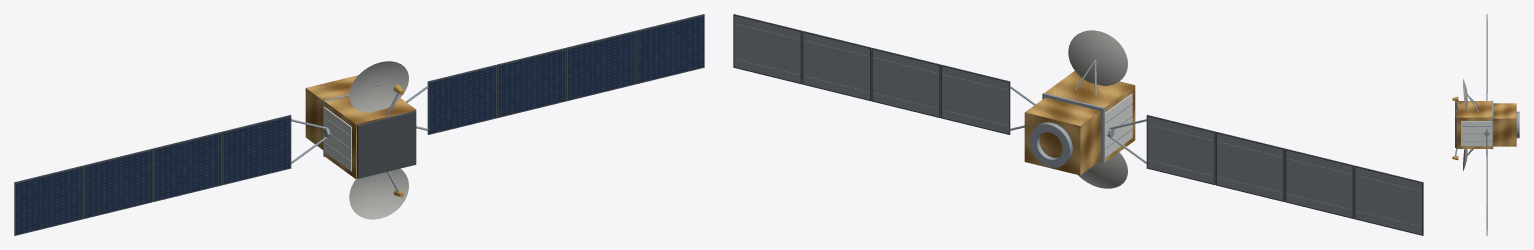
Rendered from ref-spacebus-3000-23948.glb.
3 views of the same model, side by side, from view 1: azimuth 30°, elevation 25°; view 2: azimuth 150°, elevation 25°; view 3: azimuth 270°, elevation 25° (orthographic). The views are drawn at different scales.
Visible parts, largest first — view 1: Solar cell panel (×8), Communications reflector (×2), Solar panel frame (×8), Earth-facing deck, Payload module, Service module, Radiator face; view 2: Rear array substrate (×8), Solar panel frame (×8), Service module, Communications reflector (×2), Payload module, Radiator face, Launch adapter ring, Module interface; view 3: Service module, Payload module, Radiator face, Communications reflector (×2), Module interface, Launch adapter ring, Solar panel frame, Earth-facing deck, Radiator seam.
Boxes of the visible parts, x1,y1,x2,y2 form: Solar cell panel (×8): (16, 16, 703, 234); Communications reflector (×2): (349, 61, 408, 219); Solar panel frame (×8): (14, 14, 704, 235); Earth-facing deck: (357, 111, 416, 178); Payload module: (325, 96, 416, 178); Service module: (305, 75, 358, 149); Radiator face: (323, 107, 351, 171); Rear array substrate (×8): (734, 16, 1421, 234); Solar panel frame (×8): (733, 14, 1423, 235); Service module: (1024, 97, 1100, 175); Communications reflector (×2): (1068, 30, 1127, 188); Payload module: (1045, 71, 1135, 162); Radiator face: (1104, 93, 1132, 157); Launch adapter ring: (1029, 122, 1072, 167); Module interface: (1042, 93, 1104, 164); Service module: (1493, 103, 1516, 146); Payload module: (1456, 101, 1491, 148); Radiator face: (1461, 121, 1492, 146); Communications reflector (×2): (1463, 78, 1467, 171); Module interface: (1491, 100, 1493, 149); Launch adapter ring: (1516, 111, 1519, 138); Solar panel frame: (1486, 187, 1487, 235); Earth-facing deck: (1455, 102, 1456, 147); Radiator seam: (1462, 140, 1491, 141).
Size of the model in its own units: 26.27 by 5.7 by 3.9.
8 materials, 2 textured.
